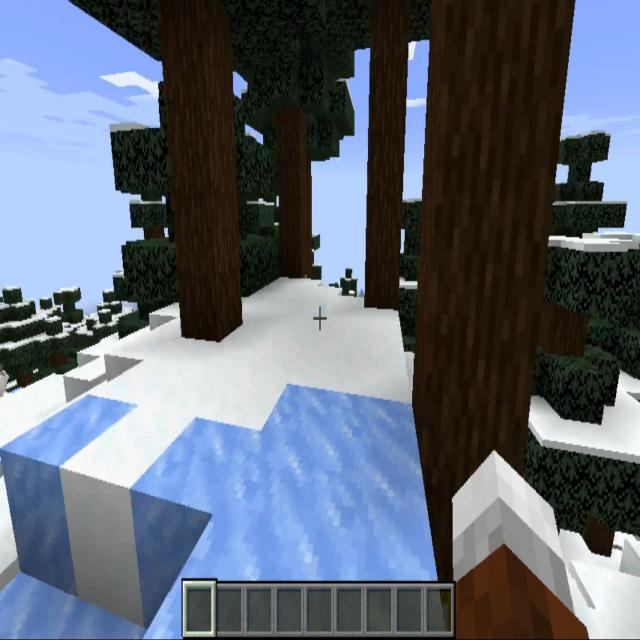Goat: (0, 354, 15, 395)
